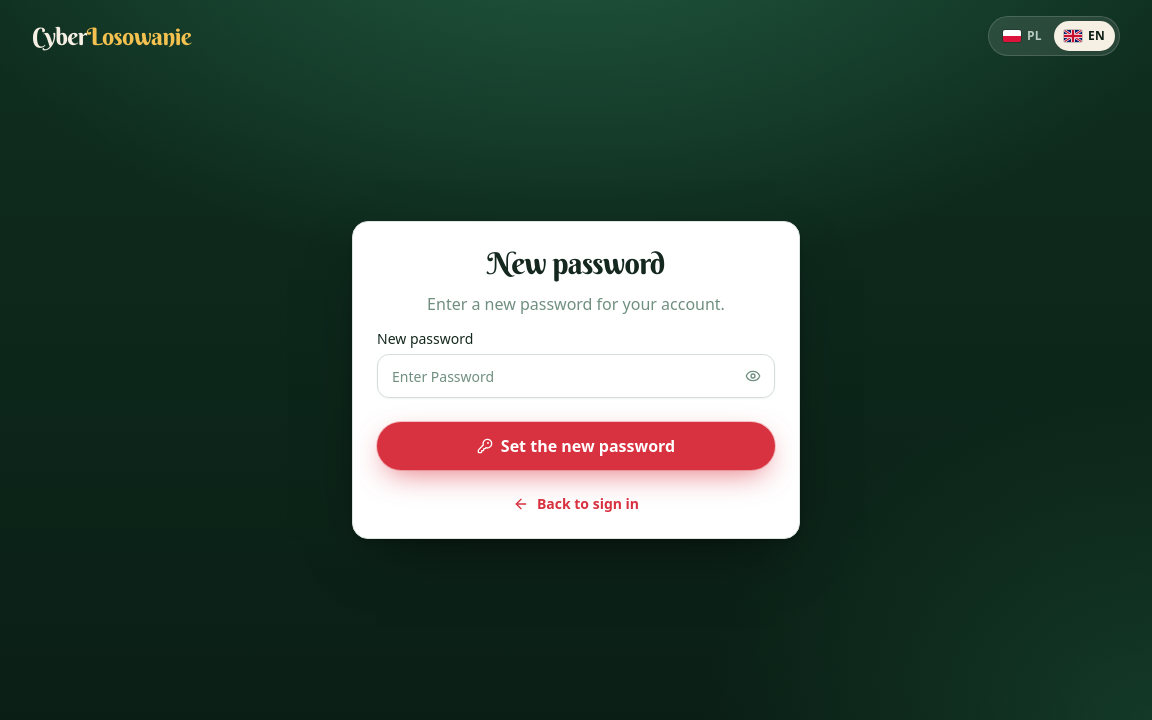
Scenario: ResetPassword › sends the link values with the new password and offers to sign in
Type "NoweHaslo1" into the password field labelled "New password". click: (576, 376)
box: [377,354,775,398]
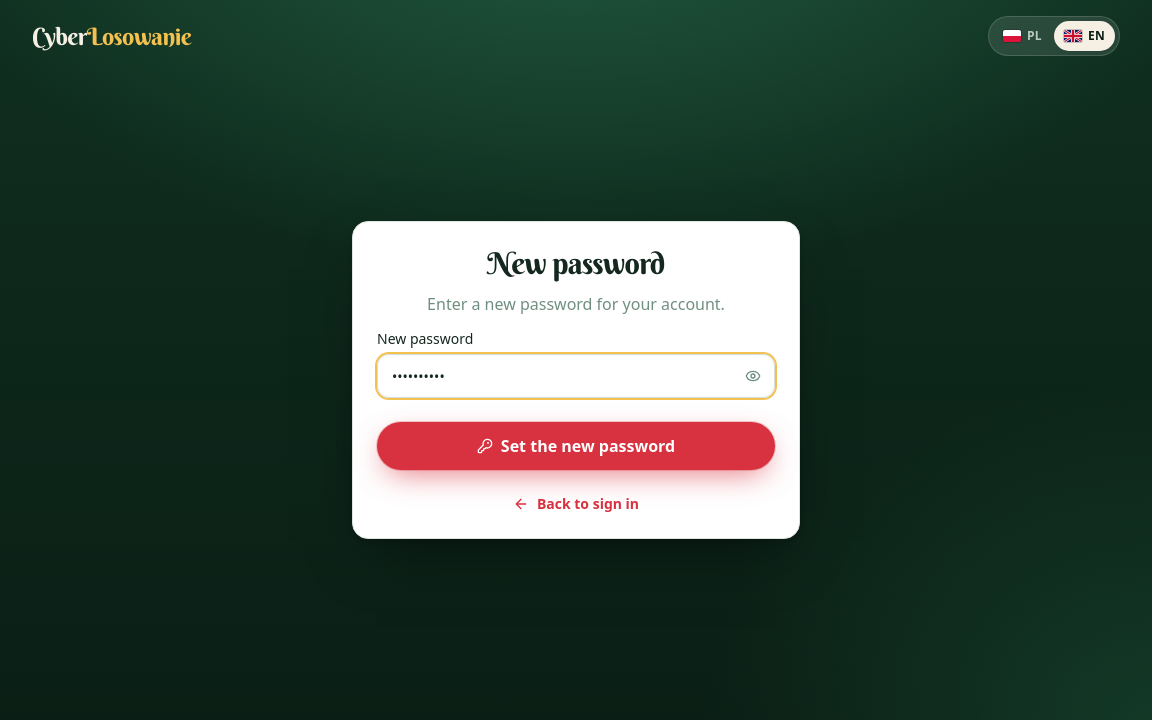
Click the button "Set the new password". click: (576, 446)
box: [377,422,775,470]
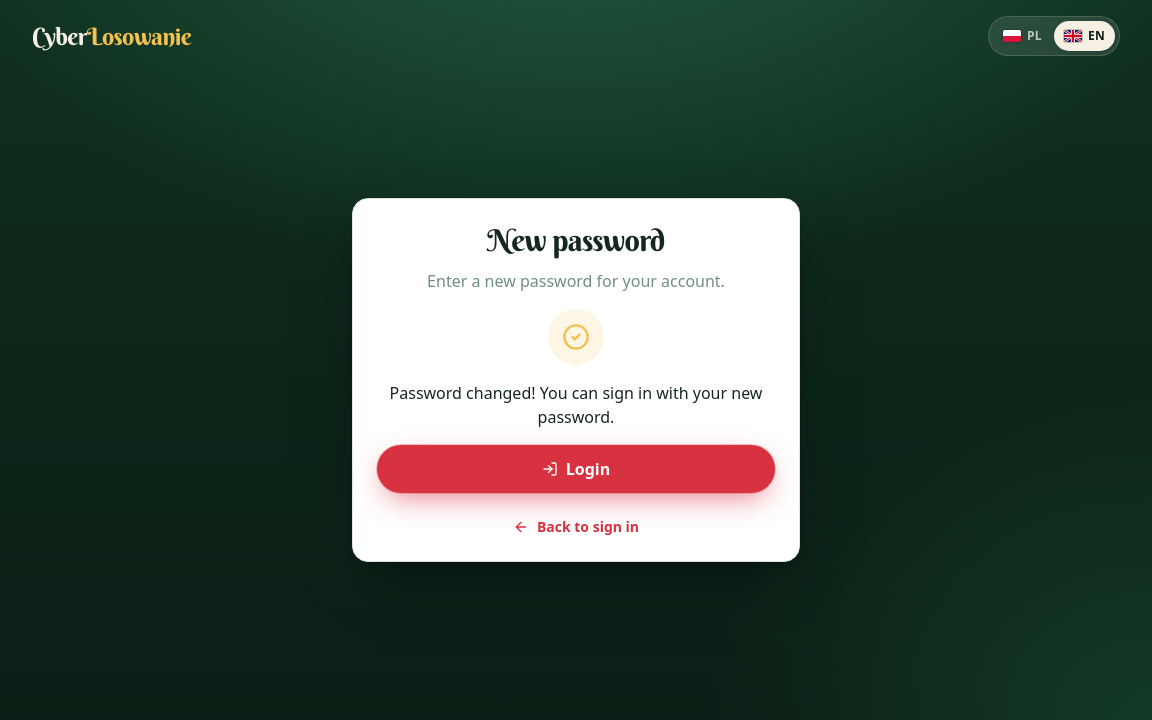
Expected: the message shows "Password changed", [390,382,762,428]
Expected: the button "Login" is shown, [377,445,775,493]
